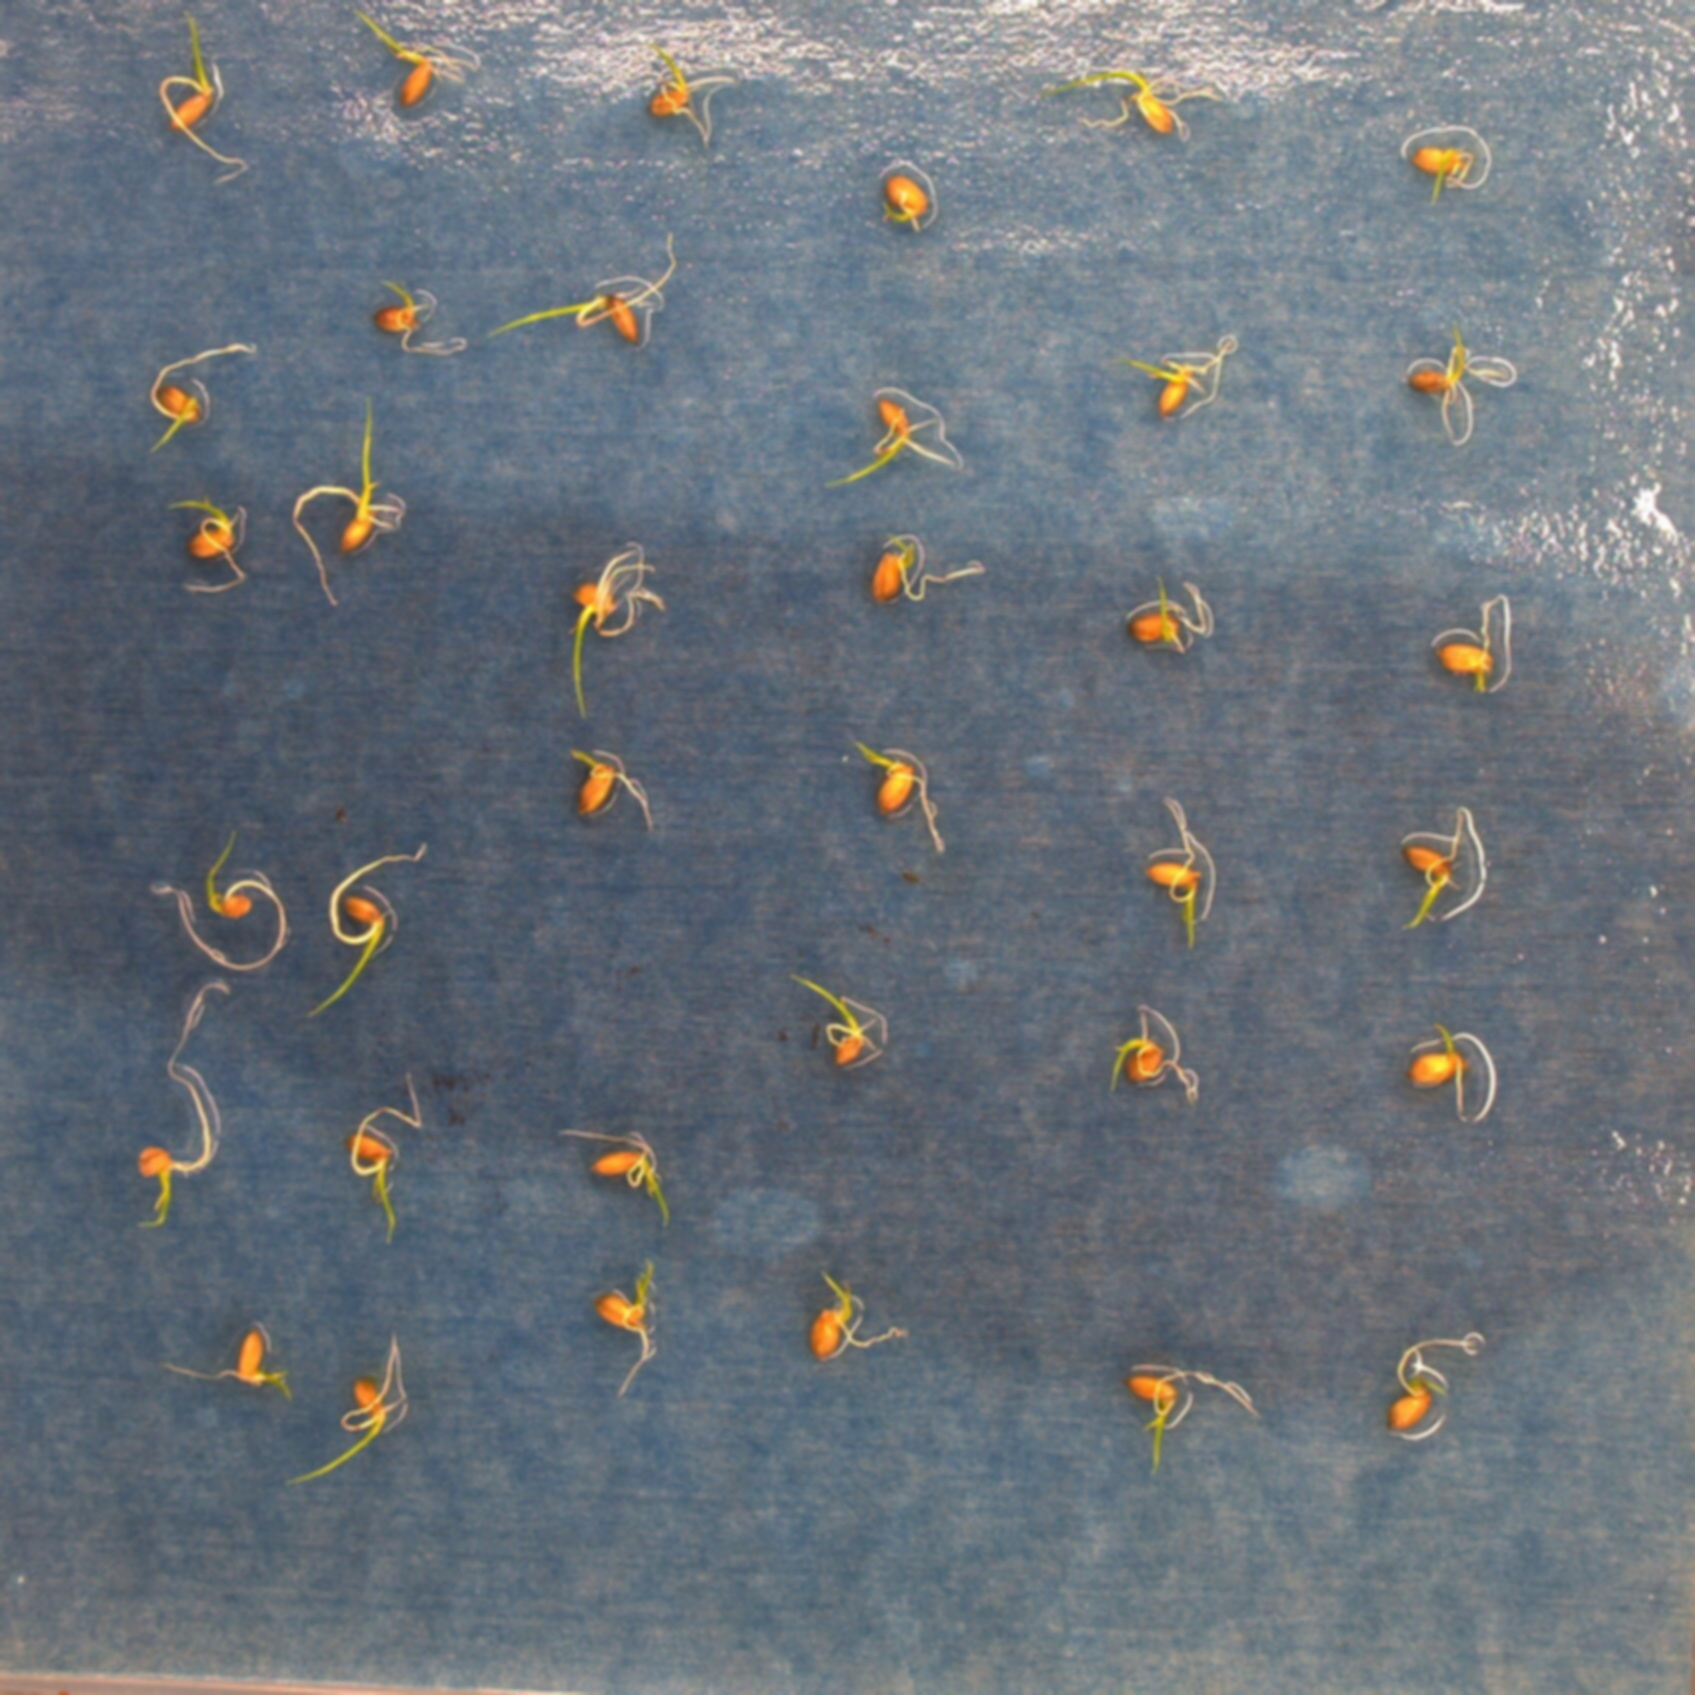not sprout: (1437, 601, 1496, 692)
sprout: (135, 979, 230, 1226), (484, 231, 678, 346), (292, 399, 399, 604), (303, 844, 421, 1017), (147, 826, 286, 969), (282, 1330, 407, 1484), (1125, 1360, 1260, 1482), (573, 540, 664, 714), (161, 11, 247, 183), (1049, 65, 1225, 141), (824, 390, 955, 490), (348, 3, 463, 115), (144, 341, 259, 453), (843, 730, 944, 855), (560, 1128, 674, 1232), (352, 1076, 419, 1243), (157, 1319, 292, 1402), (1105, 1004, 1201, 1104), (638, 47, 733, 144), (1395, 804, 1467, 930), (1141, 796, 1198, 951), (807, 1271, 908, 1357), (866, 531, 986, 602), (1389, 1336, 1479, 1426), (161, 497, 245, 593), (596, 1260, 655, 1397), (792, 976, 879, 1065), (1121, 571, 1208, 657), (373, 275, 464, 355), (568, 753, 657, 835), (1409, 326, 1471, 439), (1127, 345, 1214, 414), (1406, 1024, 1468, 1121), (1403, 140, 1475, 210), (875, 172, 928, 230)
